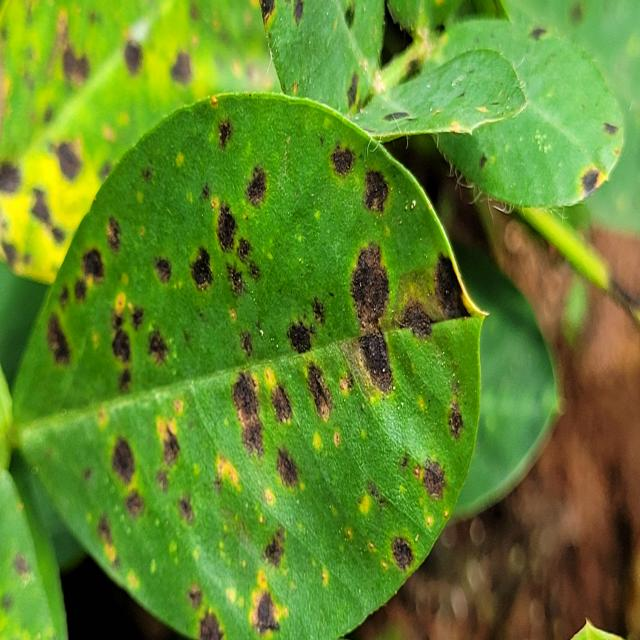Ground nut_tikka leaf spot: (11, 88, 492, 640)
